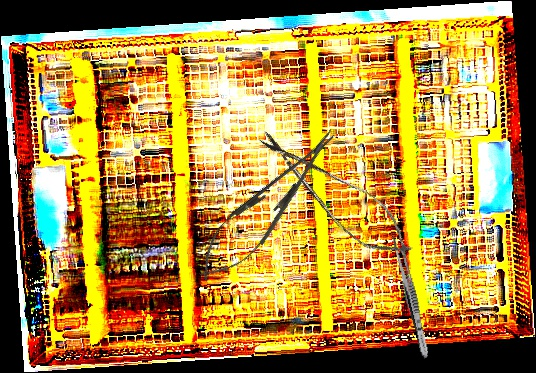Dressing Forceps: (389, 234, 433, 360)
Micro Scissor: (246, 118, 425, 273)
Needle Holder: (186, 118, 350, 293)
